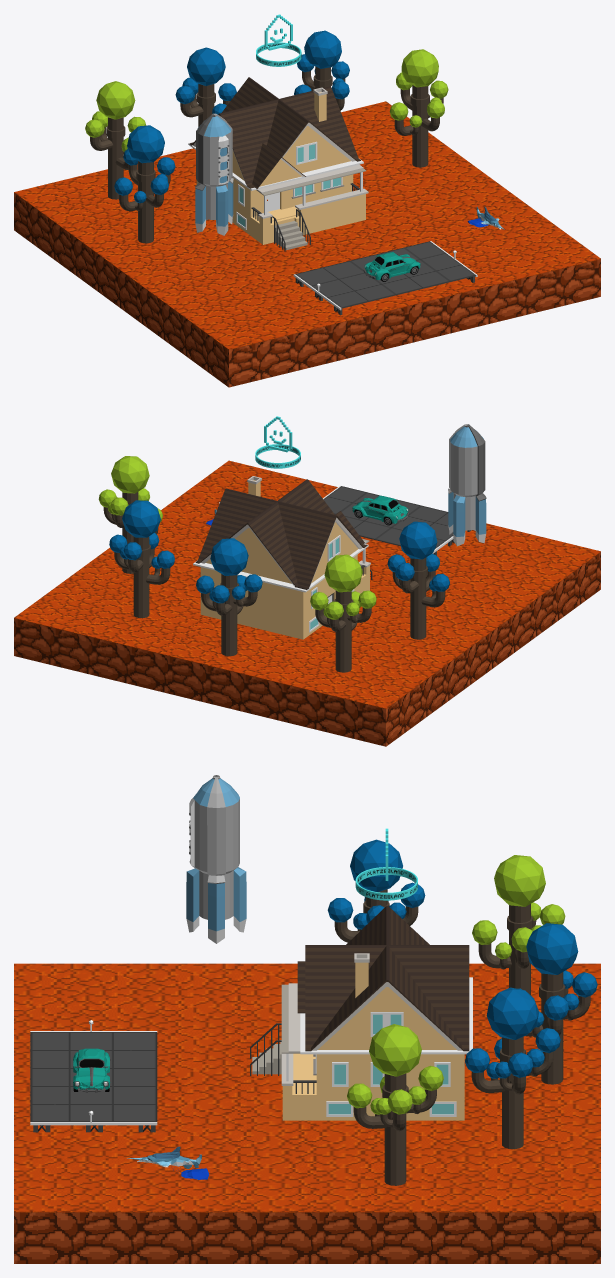
The picture shows the model from 3 angles, top to bottom: view 1: azimuth 30°, elevation 25°; view 2: azimuth 150°, elevation 25°; view 3: azimuth 270°, elevation 25°; orthographic projection. The views are drawn at different scales.
Visible parts, largest first — view 1: Cube.001, Cube.235, OBJRANDOM_ROCKETSHIP, VEHICLES_VOLKSWAGEN, TYPE_PREMIUM; view 2: Cube.001, Cube.235, OBJRANDOM_ROCKETSHIP, VEHICLES_VOLKSWAGEN, TYPE_PREMIUM; view 3: Cube.001, Cube.235, OBJRANDOM_ROCKETSHIP, VEHICLES_VOLKSWAGEN, TYPE_PREMIUM, ANIMAL_PEZ_ESPADA.
Boxes of the visible parts, x1,y1,x2,y2 form: Cube.001: (14, 30, 600, 387); Cube.235: (188, 77, 368, 251); OBJRANDOM_ROCKETSHIP: (195, 113, 233, 235); VEHICLES_VOLKSWAGEN: (363, 252, 420, 281); TYPE_PREMIUM: (256, 14, 301, 66); Cube.001: (14, 456, 600, 746); Cube.235: (193, 476, 372, 639); OBJRANDOM_ROCKETSHIP: (448, 424, 486, 546); VEHICLES_VOLKSWAGEN: (352, 495, 409, 525); TYPE_PREMIUM: (255, 416, 300, 468); Cube.001: (14, 839, 600, 1263); Cube.235: (250, 906, 472, 1120); OBJRANDOM_ROCKETSHIP: (186, 775, 246, 943); VEHICLES_VOLKSWAGEN: (73, 1048, 110, 1092); TYPE_PREMIUM: (355, 828, 417, 900); ANIMAL_PEZ_ESPADA: (127, 1146, 208, 1179).
Size of the model in its own units: 4000 by 2360 by 4000.
Materials: 39 (6 with a texture image).
